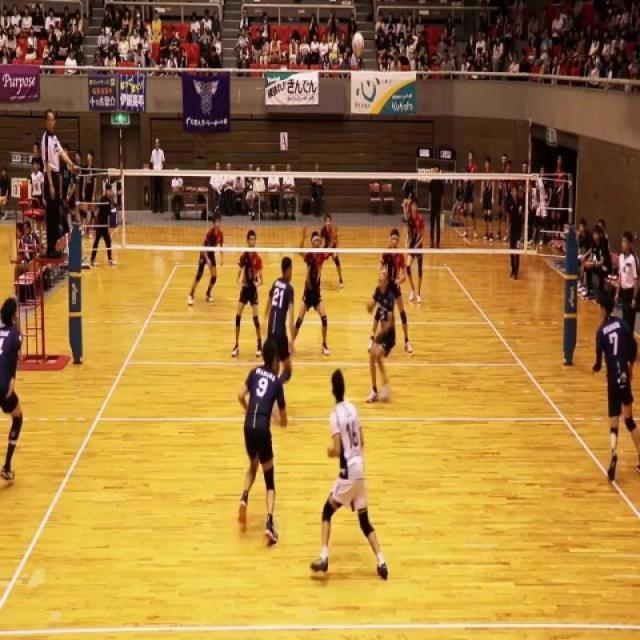volleyball: (352, 30, 365, 60)
